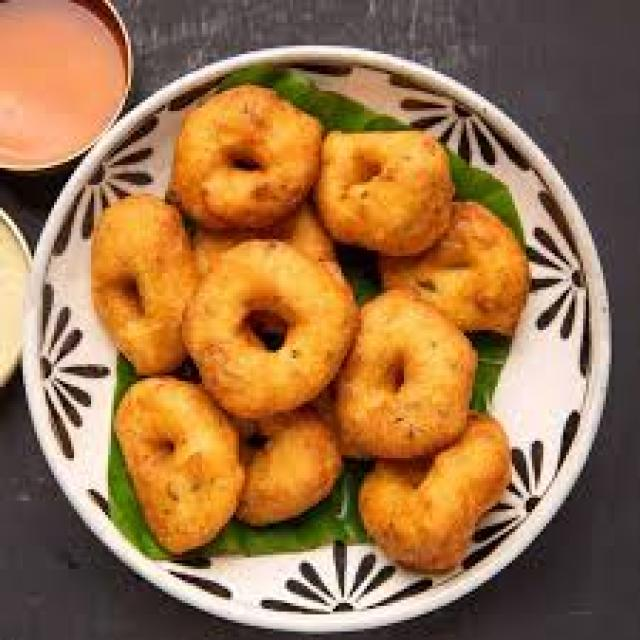MEDU VADA: (182, 239, 356, 418), (333, 290, 475, 458), (114, 375, 242, 552), (171, 85, 321, 228), (91, 193, 193, 373), (316, 131, 452, 253)
